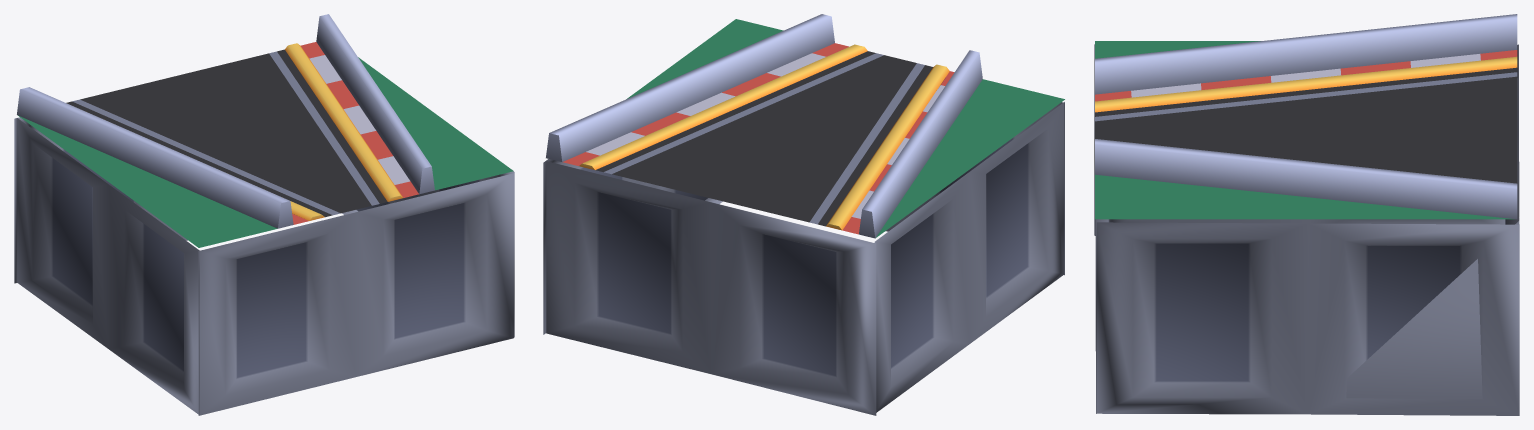
Rendered from elev-wide-to-thin.glb.
The picture shows the model from 3 angles, left to right: view 1: azimuth 30°, elevation 25°; view 2: azimuth 150°, elevation 25°; view 3: azimuth 270°, elevation 25°; orthographic projection. The views are drawn at different scales.
Parts seen in each view (by area): view 1: track-straight.010; view 2: track-straight.010; view 3: track-straight.010.
Boxes of the visible parts, x1,y1,x2,y2 form: track-straight.010: (14,14,514,415); track-straight.010: (543,14,1064,415); track-straight.010: (1094,14,1519,415).
Bounding box in the file's own units: 10.1 × 5.87 × 10.06.
Materials: 3 (3 with a texture image).
